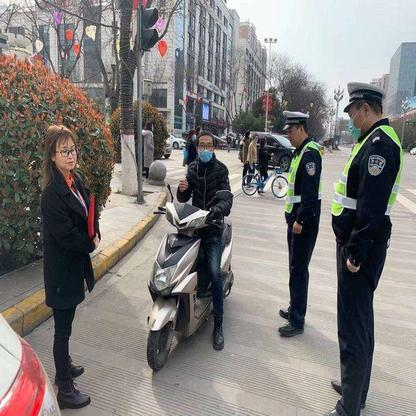target: (146, 129, 235, 370)
